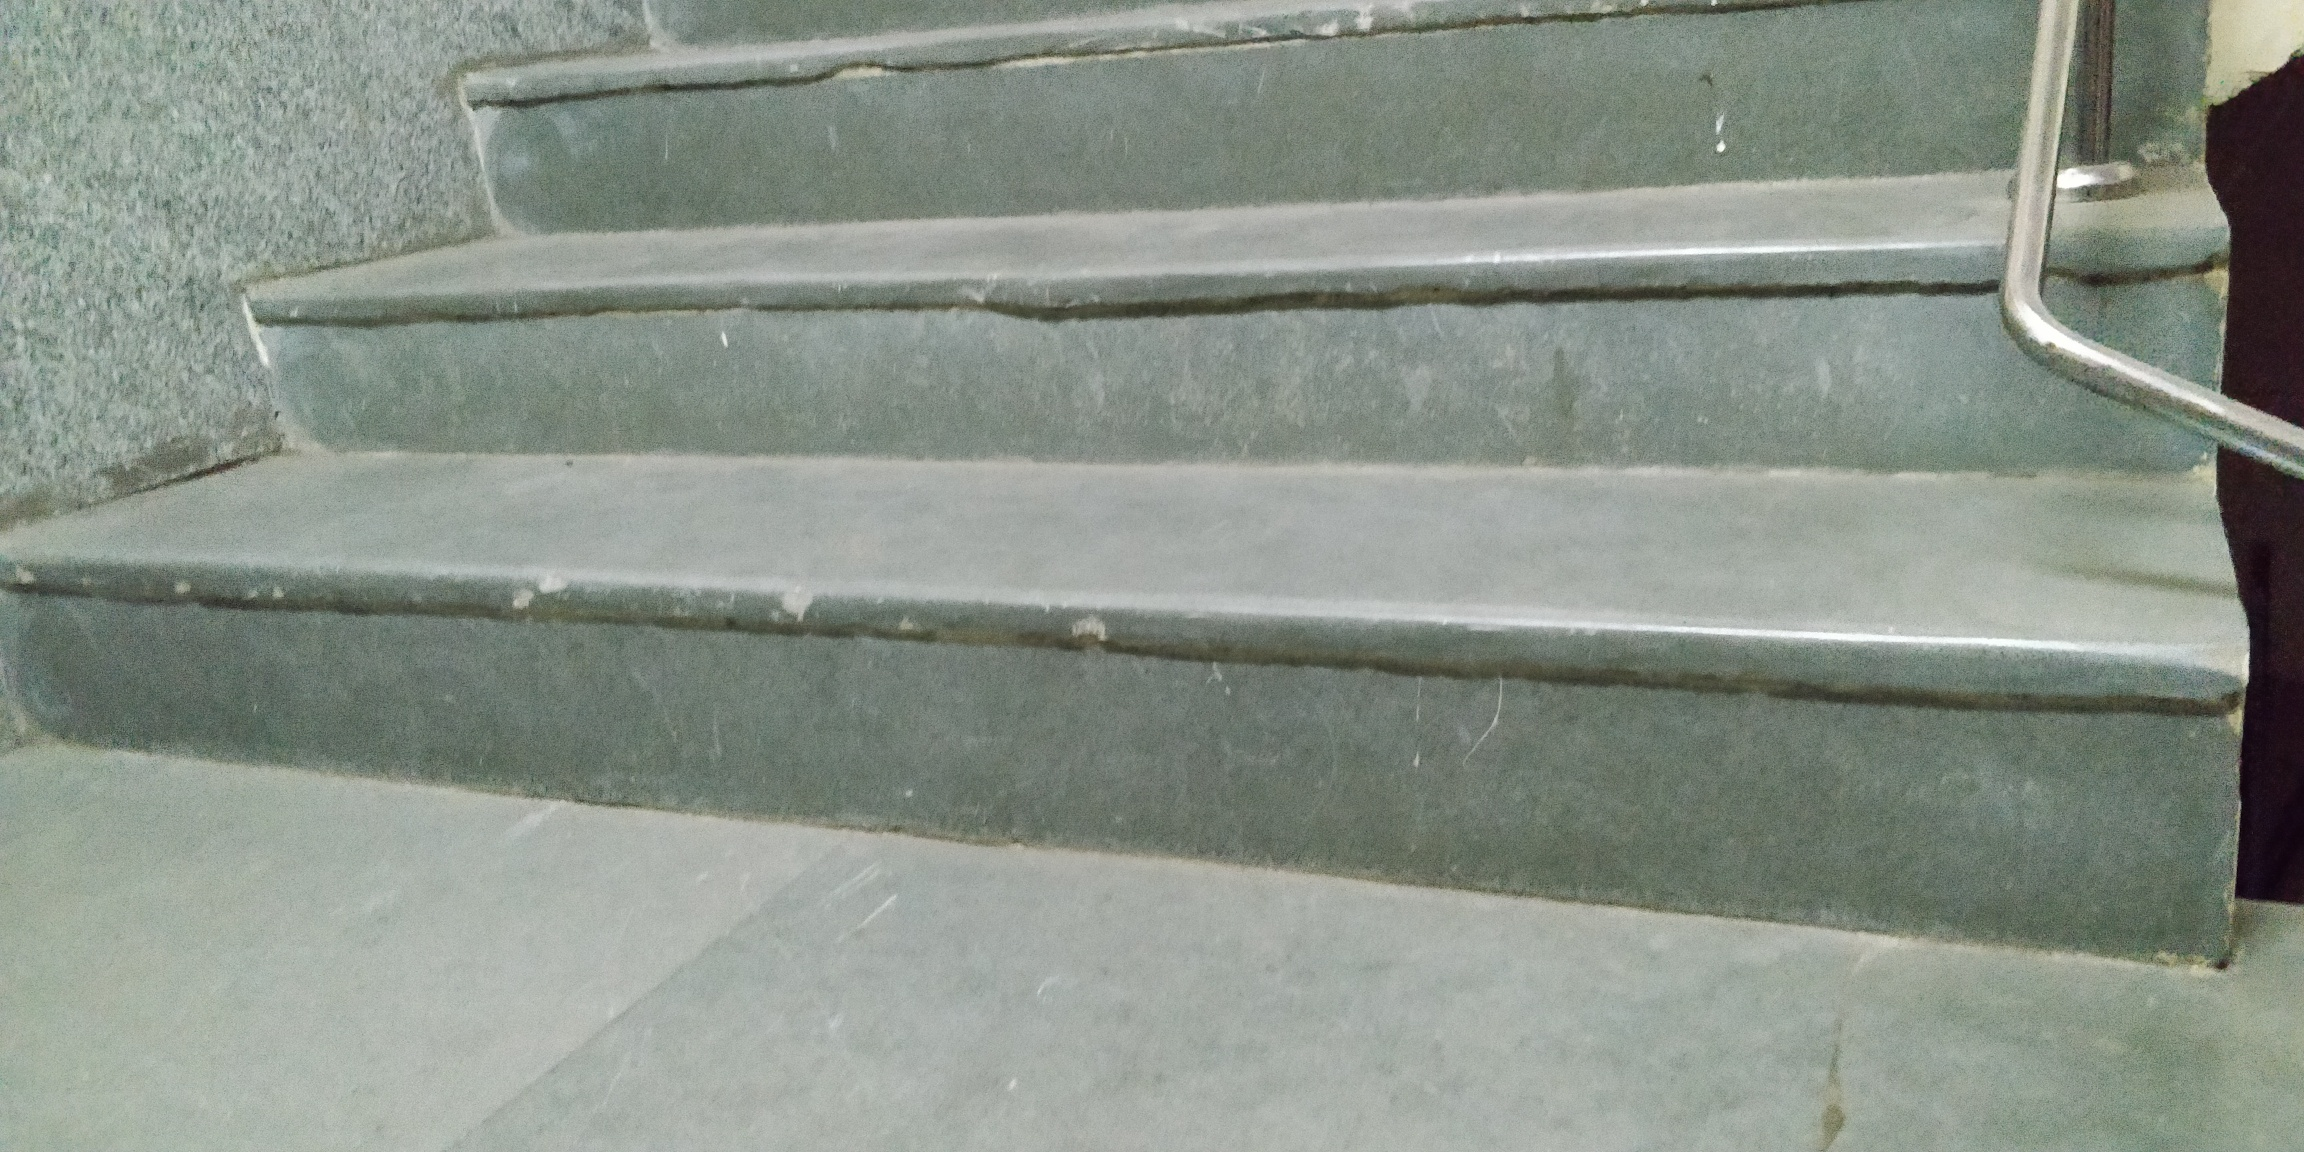stairs_up: (38, 7, 2131, 910)
